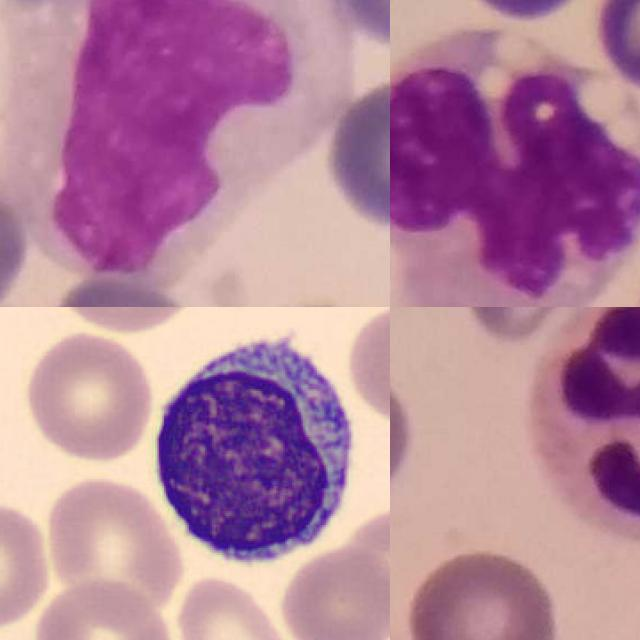Lymphocyte: (137, 315, 367, 578)
Monocyte: (9, 0, 355, 290), (390, 27, 640, 307)
Neutrophil: (533, 307, 640, 538)
RBC: (42, 472, 188, 618), (20, 329, 155, 465), (276, 542, 390, 640), (30, 577, 178, 640), (173, 571, 303, 640), (0, 496, 55, 632), (336, 503, 390, 632), (342, 307, 390, 430), (41, 307, 199, 336)
